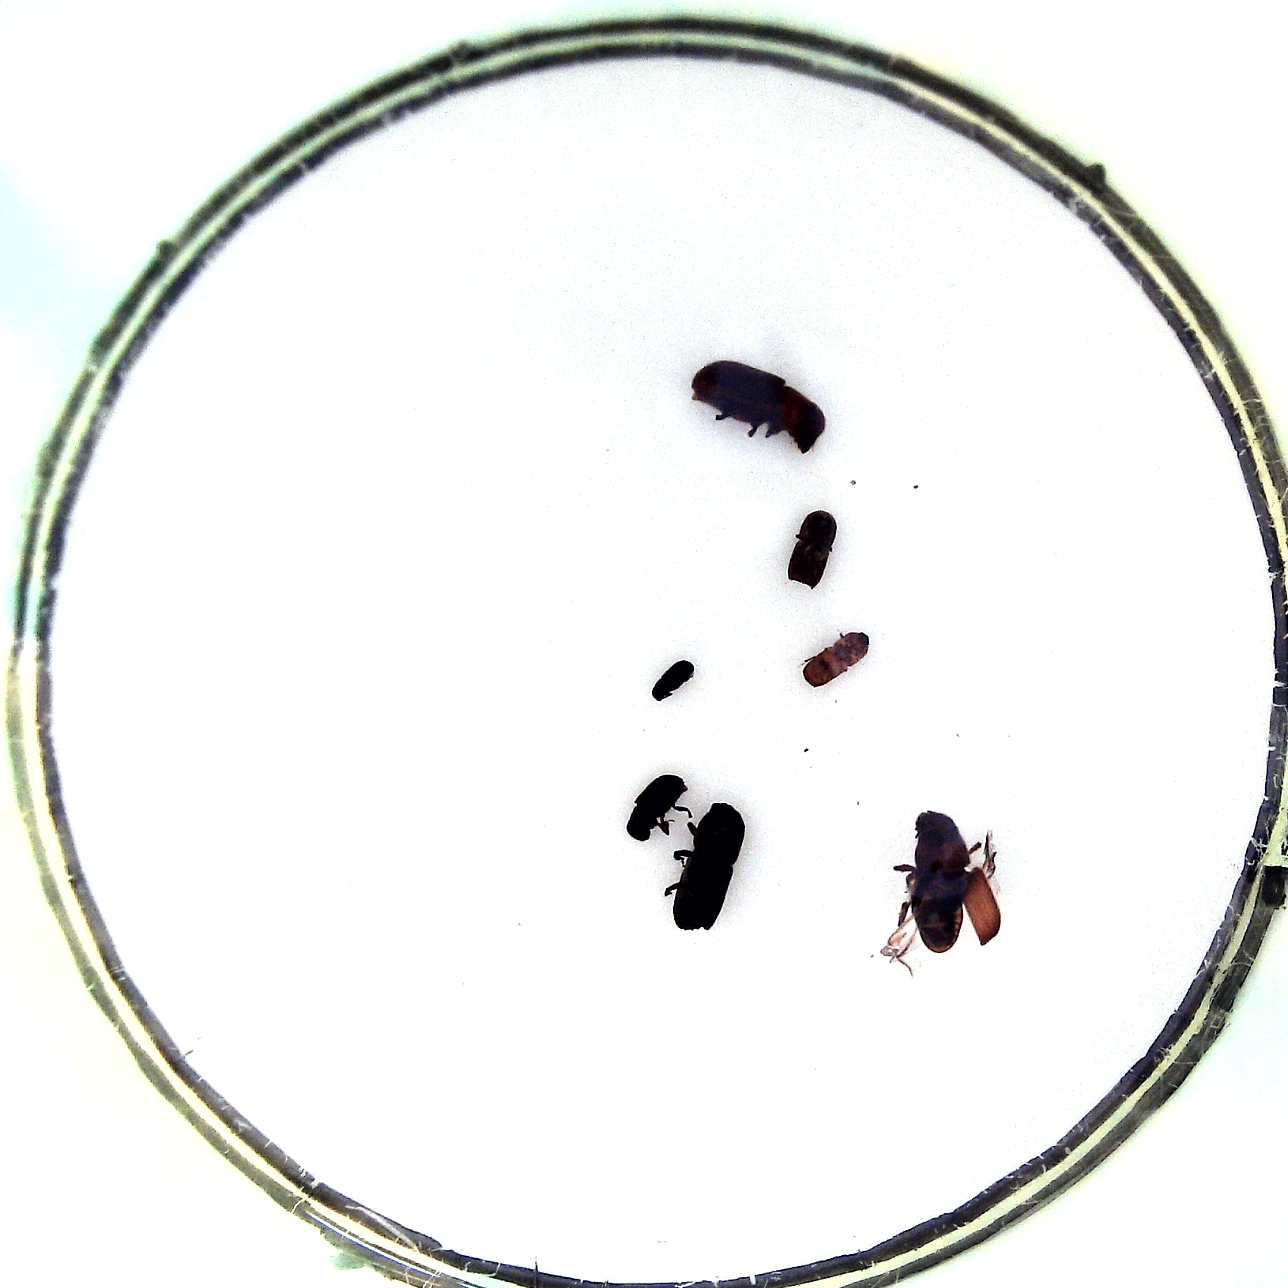Boerner: (665, 801, 751, 937)
Leconte: (883, 804, 1008, 981), (685, 355, 826, 458)
Linnaeus: (790, 510, 837, 591)
acuminatus: (800, 627, 872, 686)
armandi: (619, 771, 685, 841)
coleoptera: (649, 655, 694, 704)
